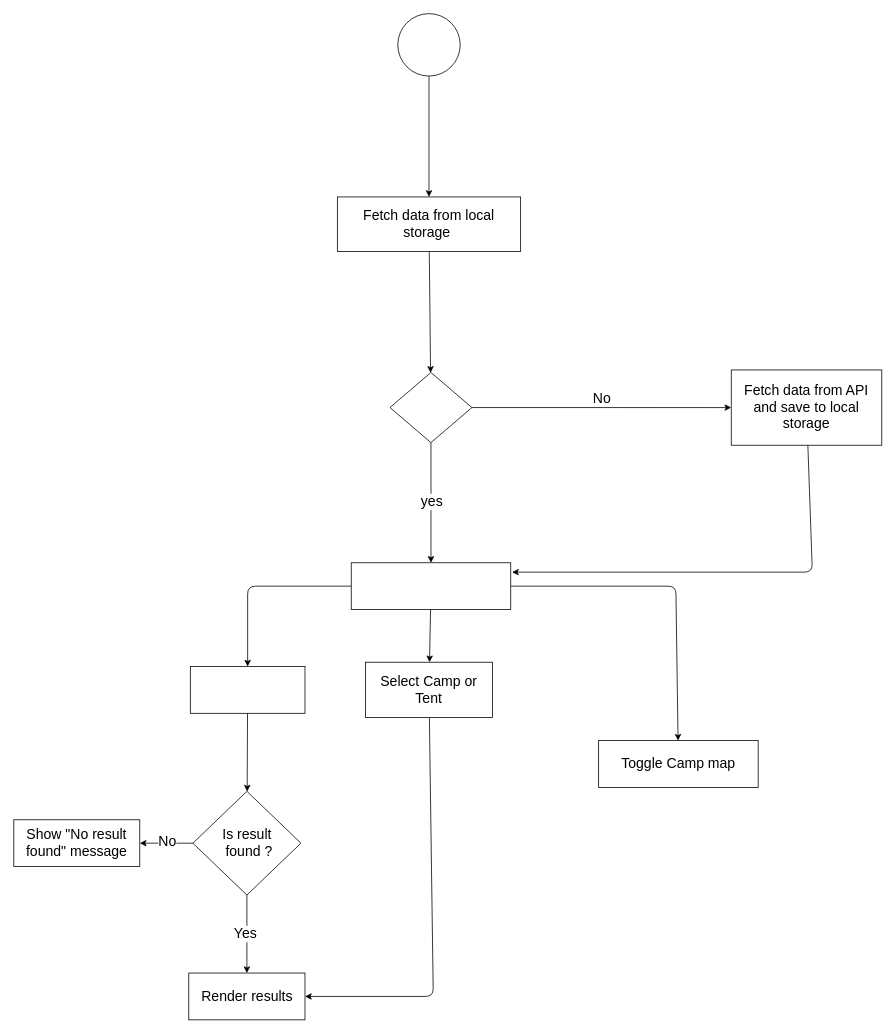
Image size: 895x1034. Some labels were removed from this diagram. Here are the shapes that lost their labels. From the top down, the centre of each, then its label:
point (428, 44): Start
point (430, 407): Fullfild?
point (430, 586): Render Haj Data list
point (247, 689): Search for Haj name
